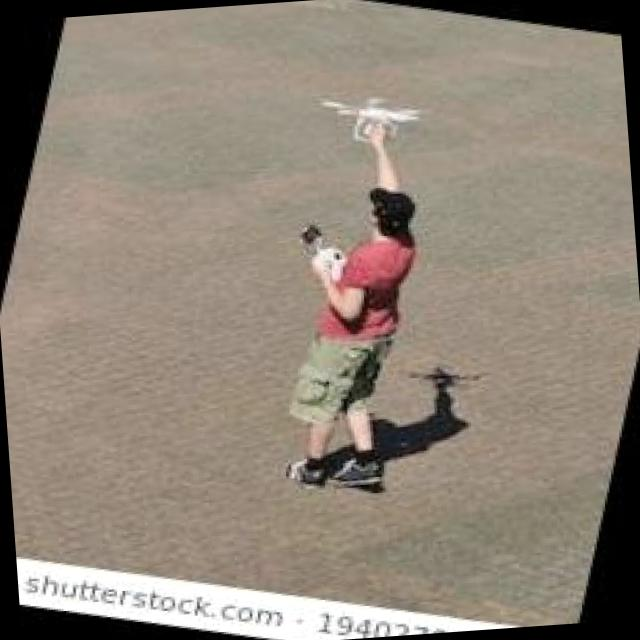drone: (316, 83, 429, 154)
